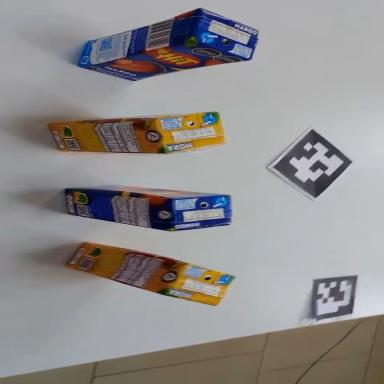HIT-MANGO: (73, 0, 263, 90), (64, 181, 233, 236)
HIT-MORA: (66, 232, 234, 312), (48, 112, 225, 156)
cara_F: (81, 31, 250, 90), (64, 180, 229, 205)
